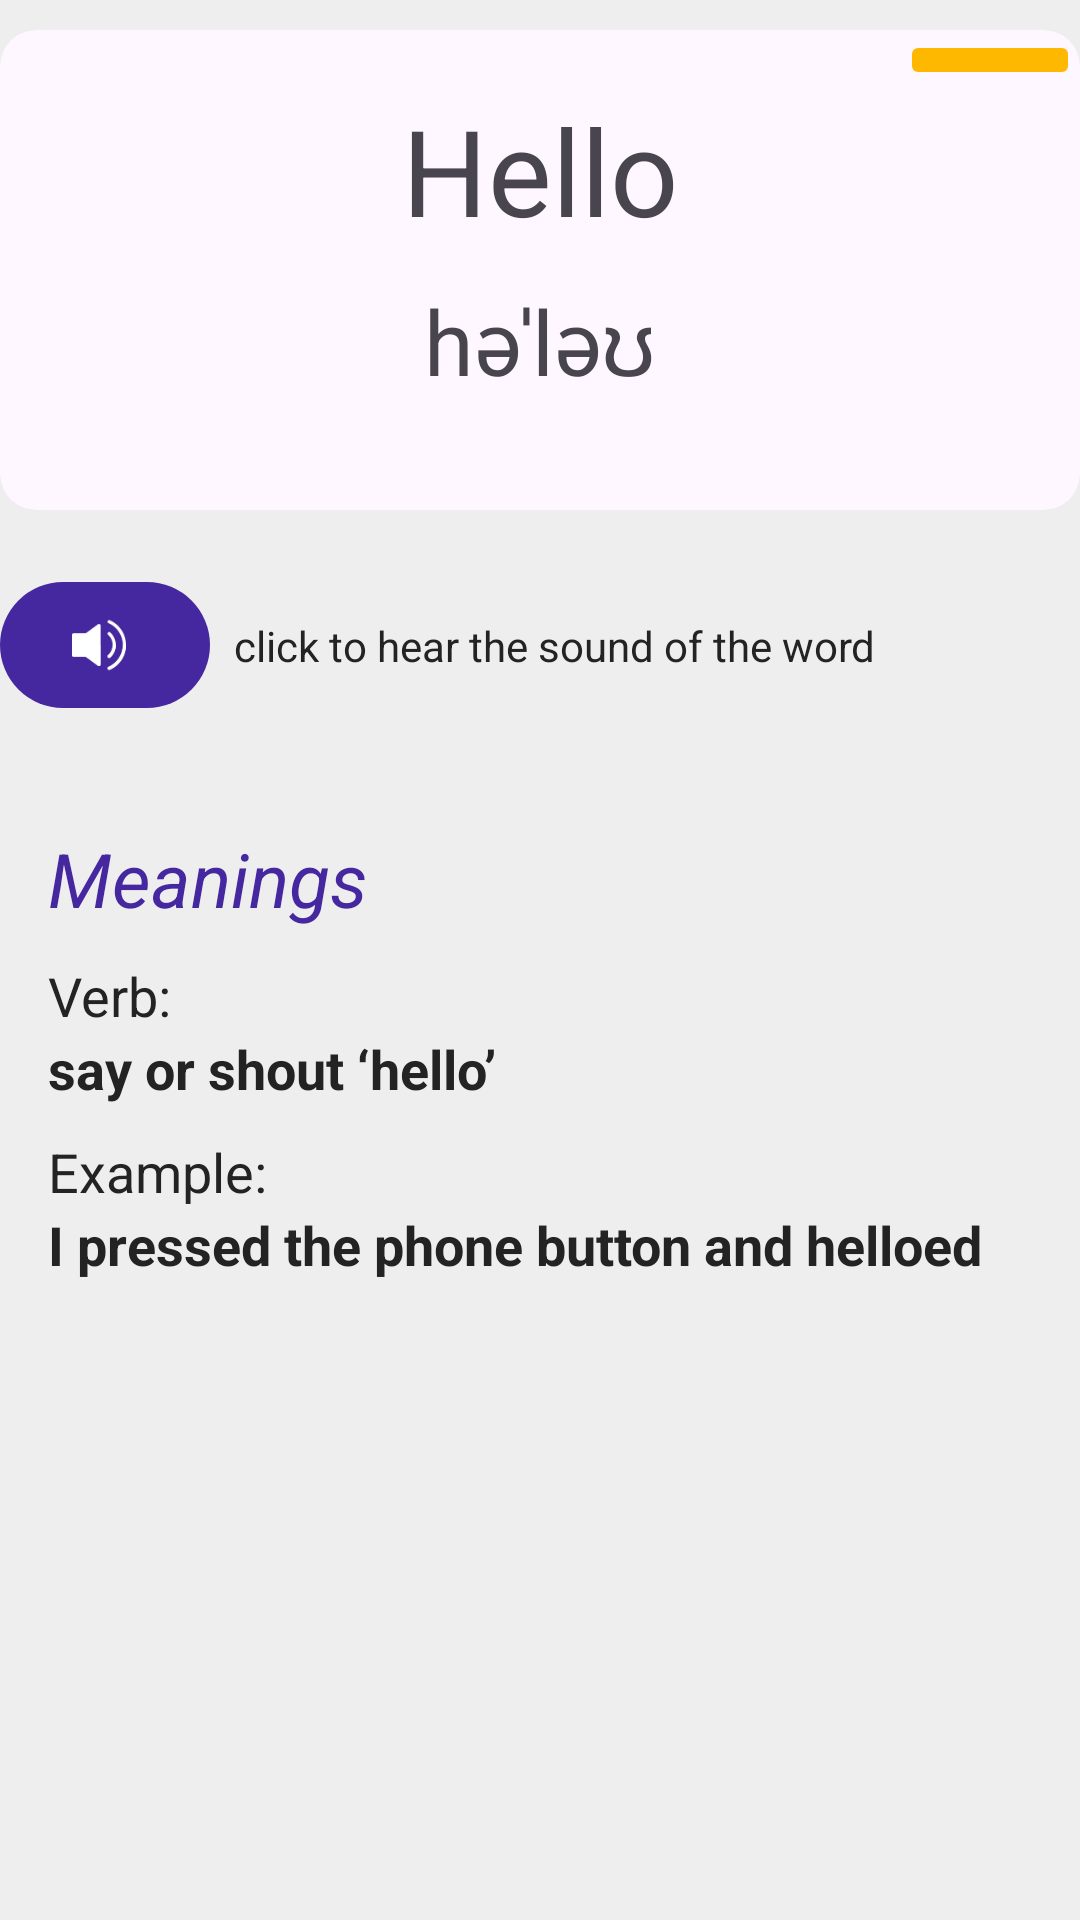

Named icons in this screenshot (1080x1920) and their bounding boxes, [x1=x1, y1=y1, x2=x2, y2=y2]:
audio: [x1=0, y1=582, x2=210, y2=708]
